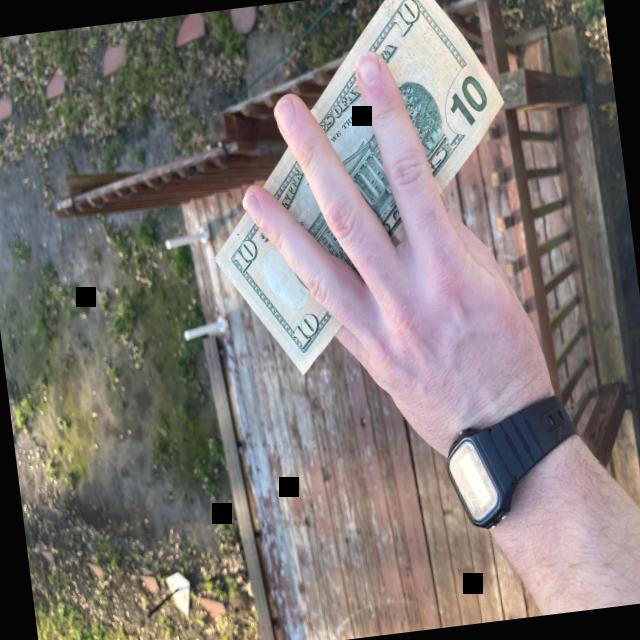ten: (213, 0, 504, 378)
